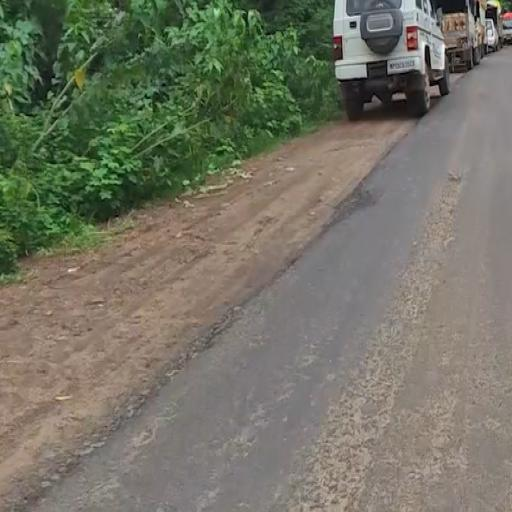edge_damage: (63, 321, 274, 472)
